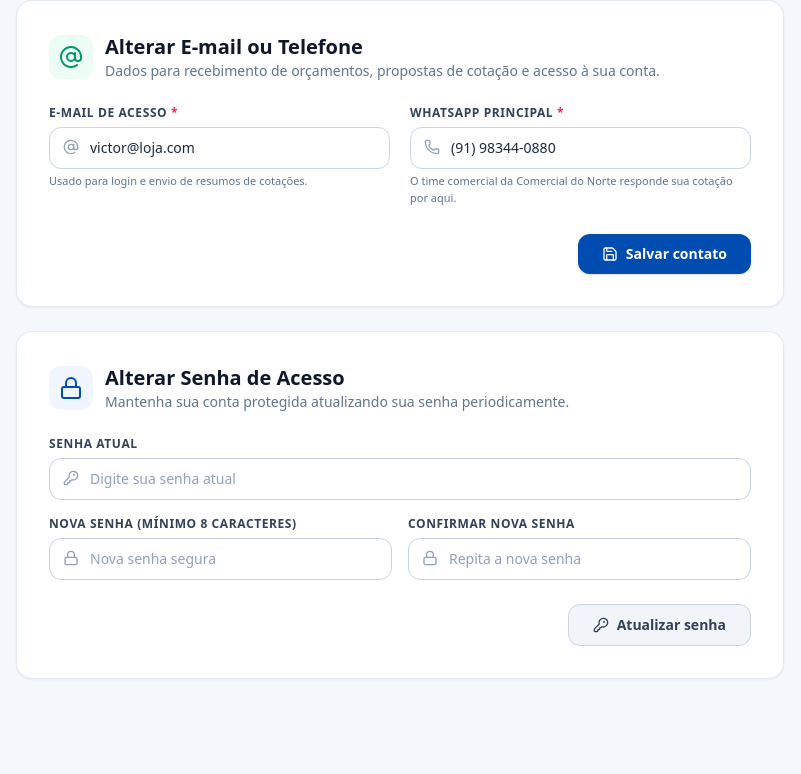
ContatoSegurancaPage › submits updated contact information successfully
Replace the text in the field labelled "E-mail de Acesso *" with "novo@loja.com". click: (220, 148)
box: top-left (49, 127), bottom-right (390, 169)
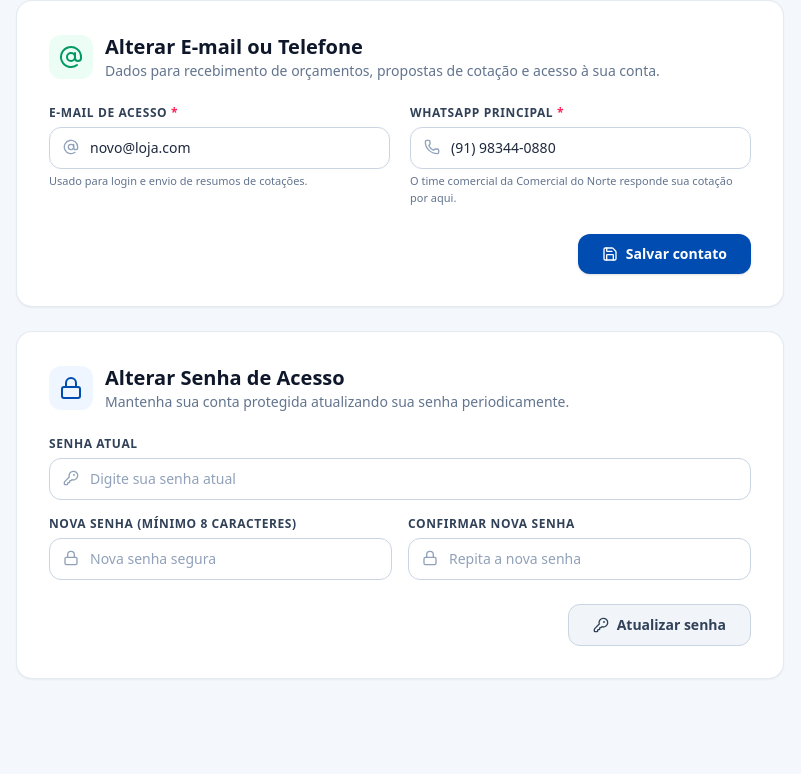
Click the button "Salvar contato". click: (664, 254)
box: top-left (578, 234), bottom-right (751, 274)
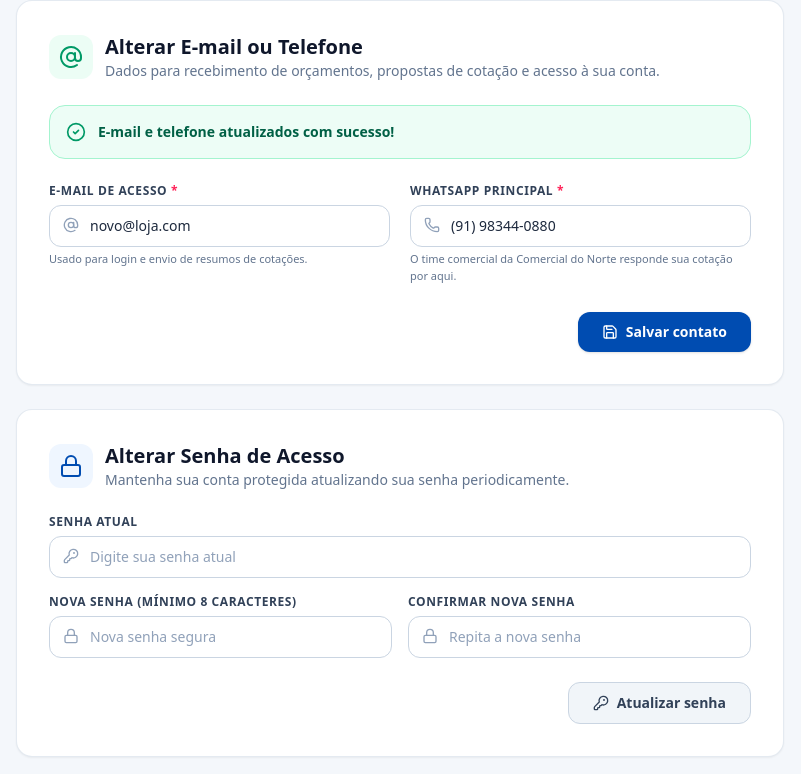
Now the text "E-mail e telefone atualizados com sucesso!" is shown, box top-left (98, 122), bottom-right (394, 142)
